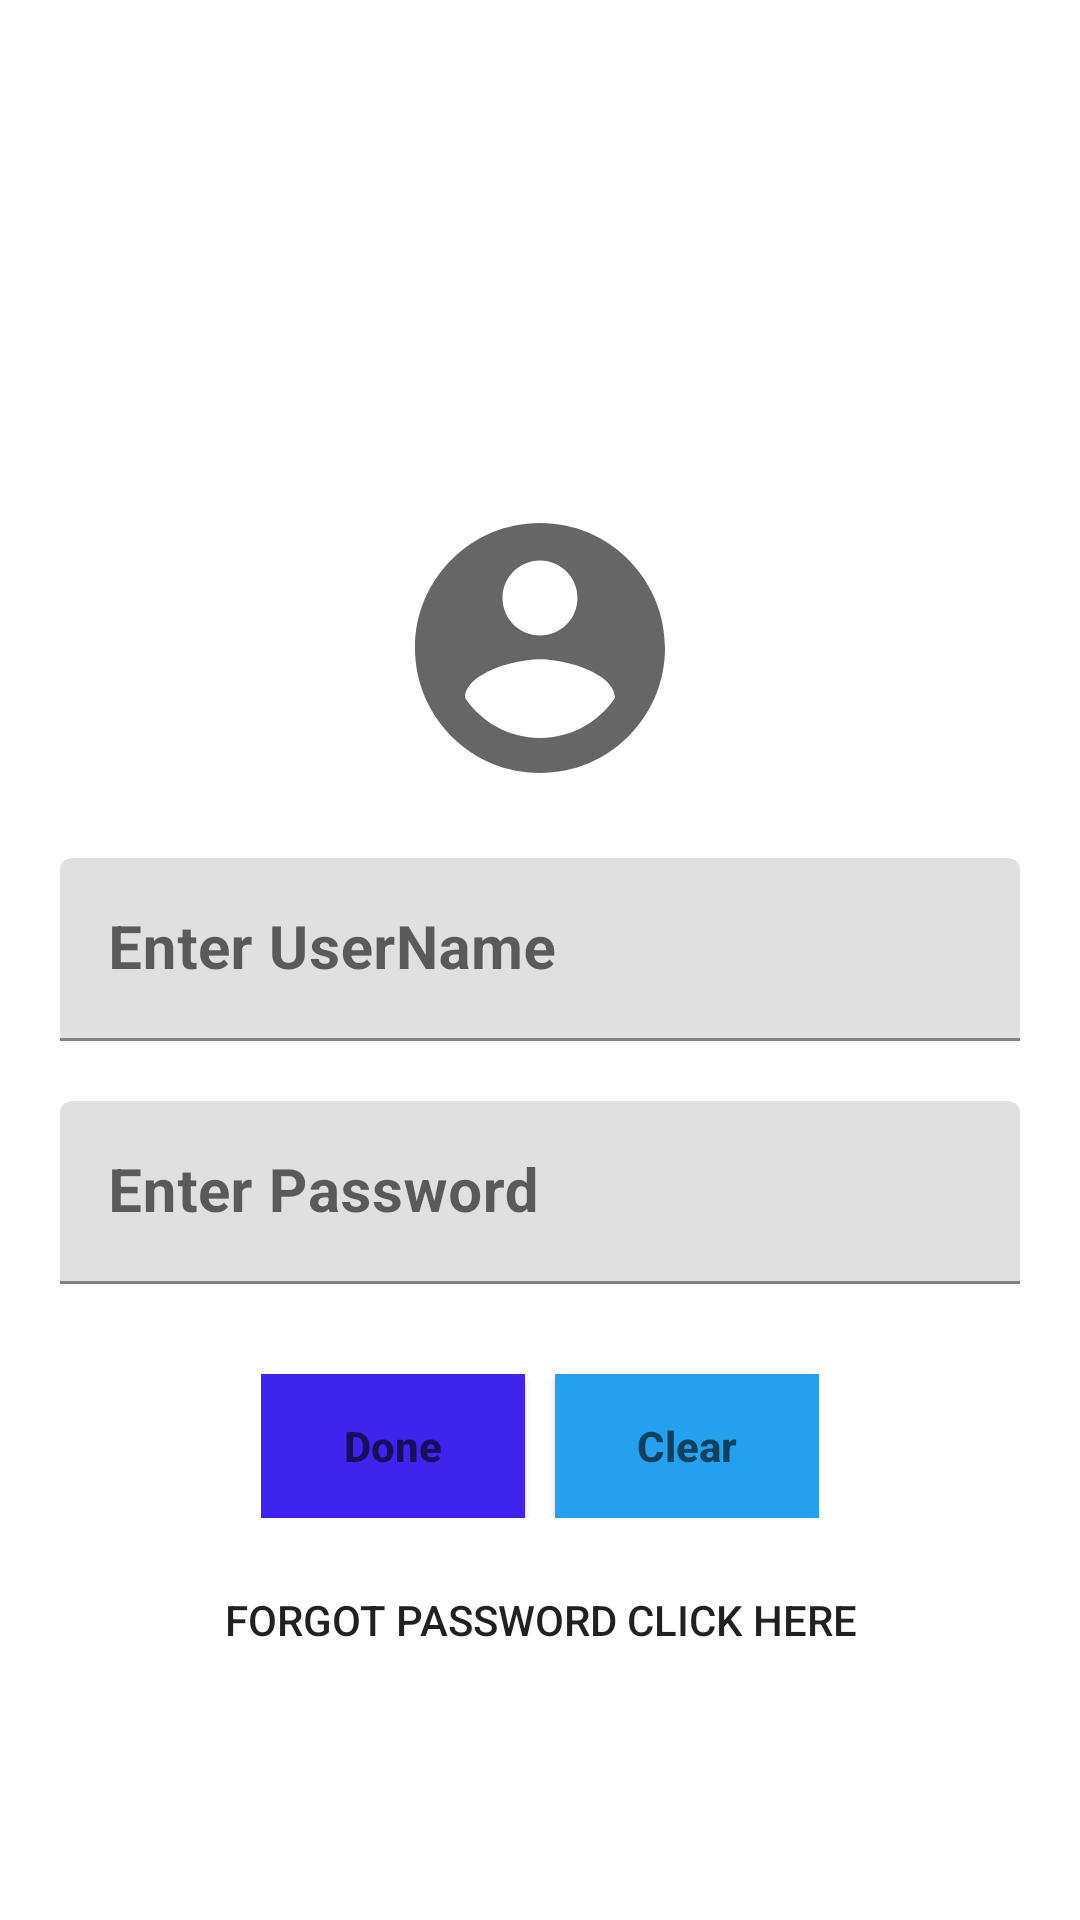

Named icons in this screenshot (1080px×1920px) and their centers, (x,y):
account circle: (540,648)
